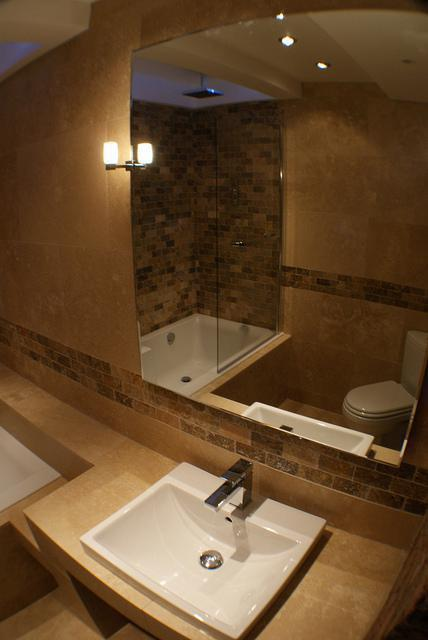Lavamanos: (79, 461, 329, 639), (234, 397, 378, 478)
Sanitario: (342, 322, 427, 427)
